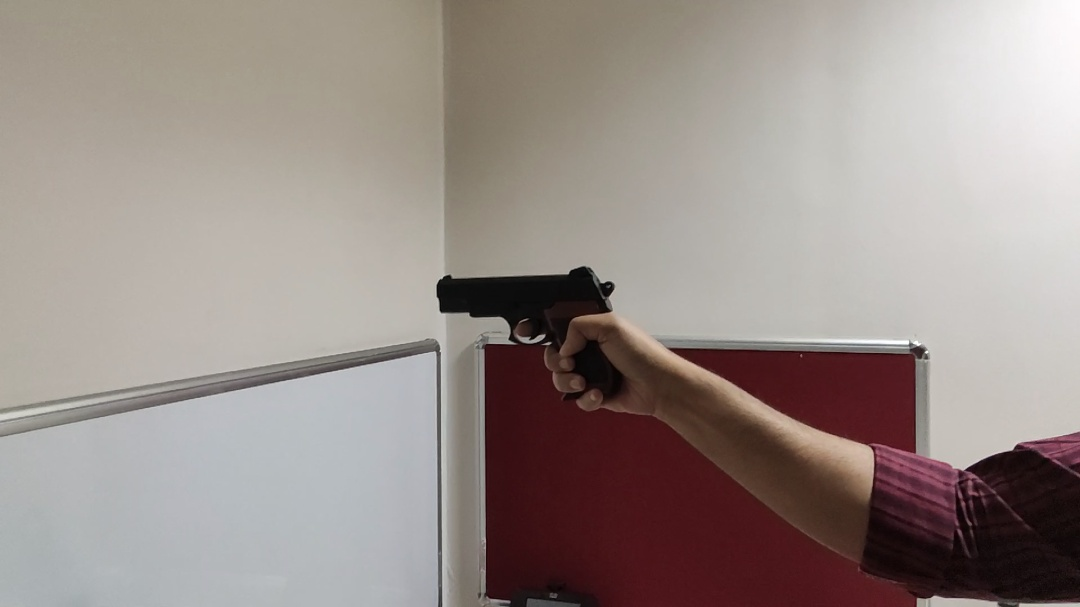gun: (436, 266, 629, 405)
